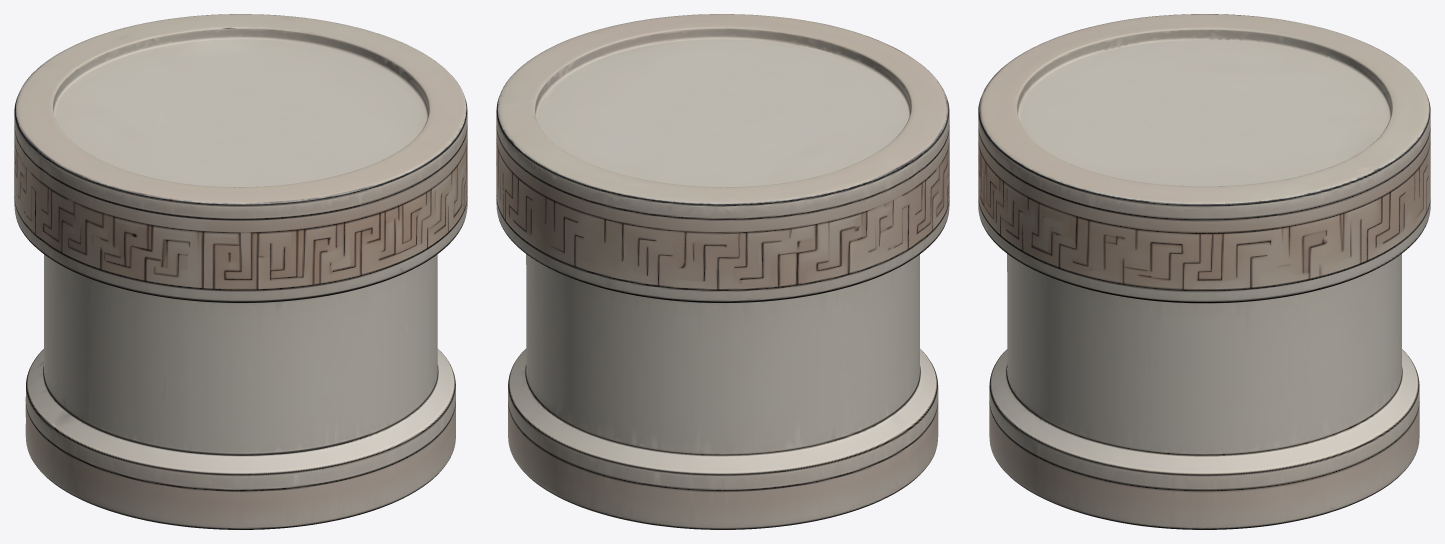
File: prop_pedestal.glb
The picture shows the model from 3 angles, left to right: view 1: azimuth 30°, elevation 25°; view 2: azimuth 150°, elevation 25°; view 3: azimuth 270°, elevation 25°; orthographic projection.
Parts seen in each view (by area): view 1: material; view 2: material; view 3: material.
Boxes of the visible parts, x1,y1,x2,y2 form: material: [14, 14, 467, 529]; material: [496, 14, 949, 529]; material: [978, 14, 1430, 529].
Size of the model in its own units: 0.9351 by 0.7647 by 0.935.
1 material, 1 textured.
